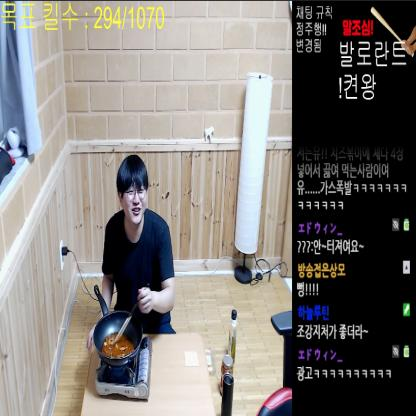streamer: (85, 154, 175, 352)
